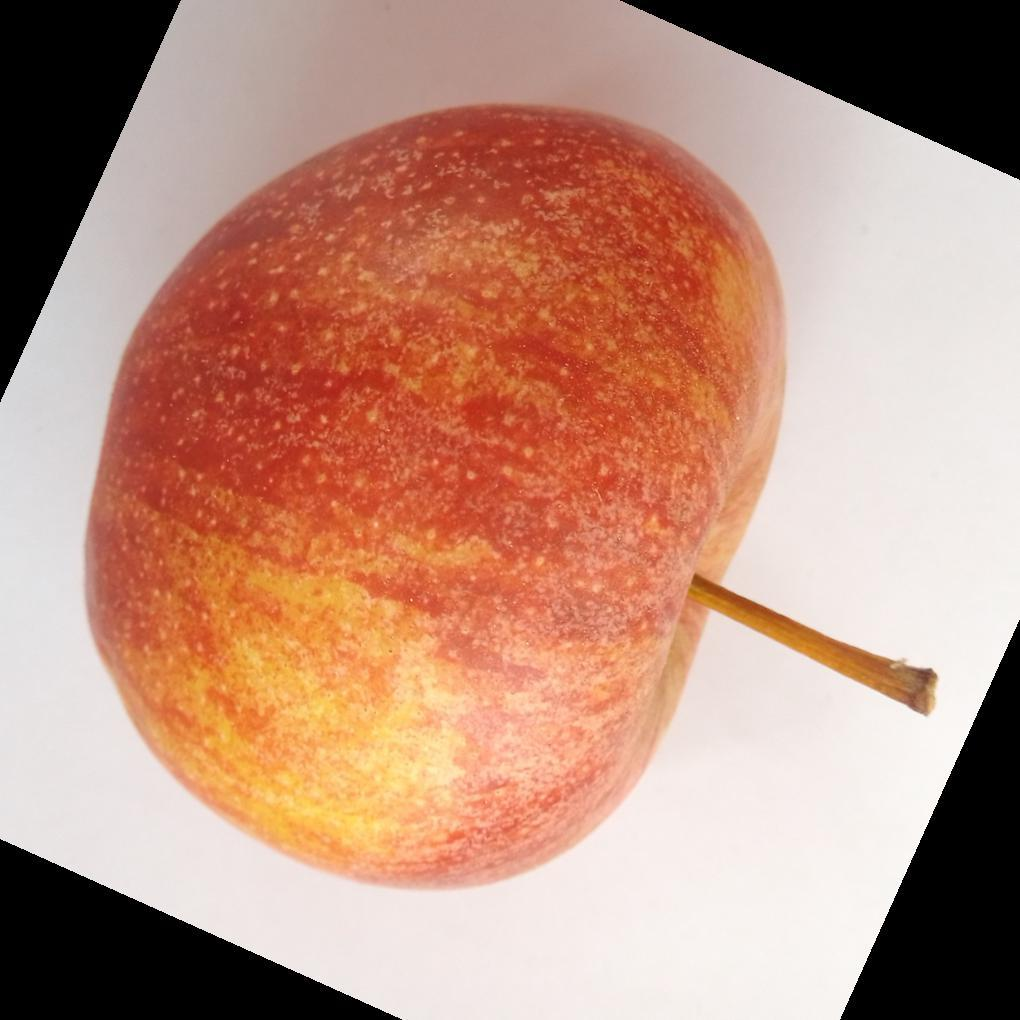FreshGuava: (81, 104, 789, 896)
